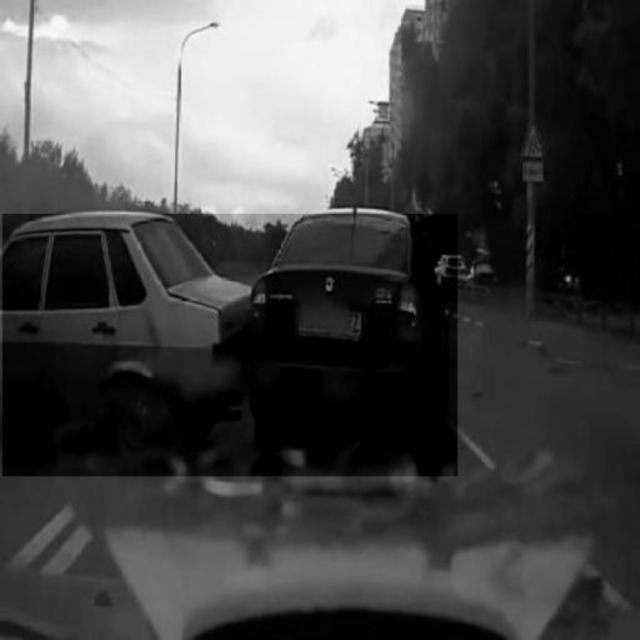accident: (2, 214, 456, 476)
